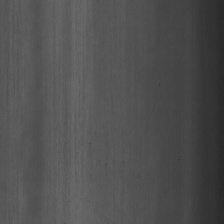inclusion: (54, 15, 97, 200)
